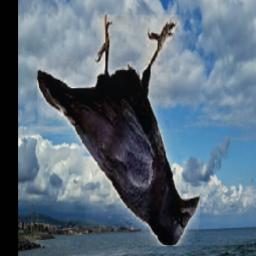Crow: (37, 16, 200, 247)
